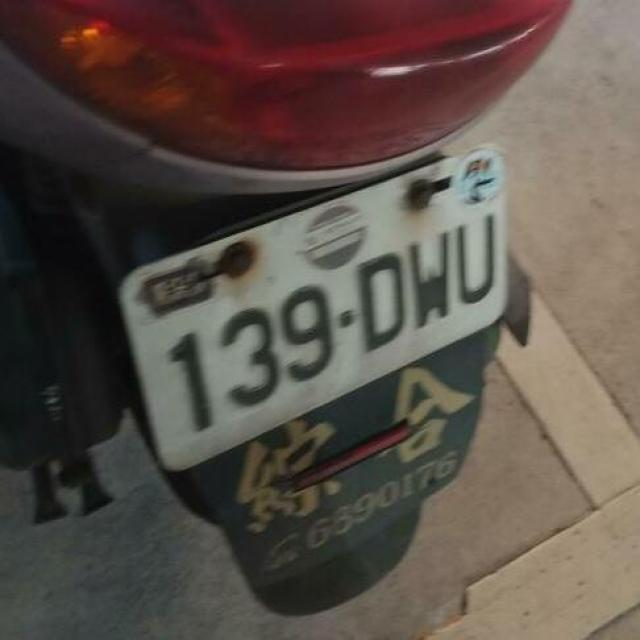W: (69, 120, 546, 494)
